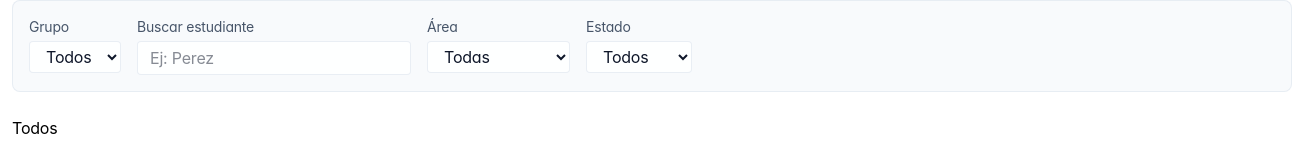
FiltersBar › updates group when select changes
Select "9A" in the dropdown labelled "Grupo" at [75, 57], box [29,41,121,73]
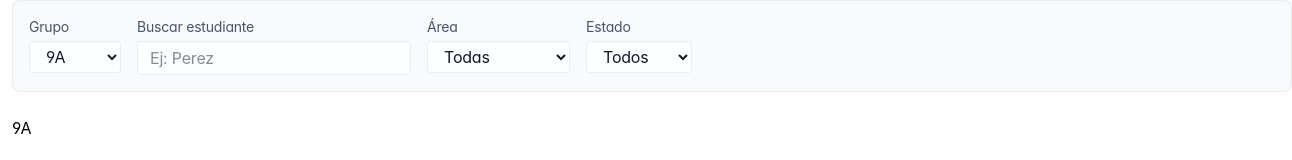
Expected: the text with test id "grupo-output" reads "9A", [12,118,31,138]
